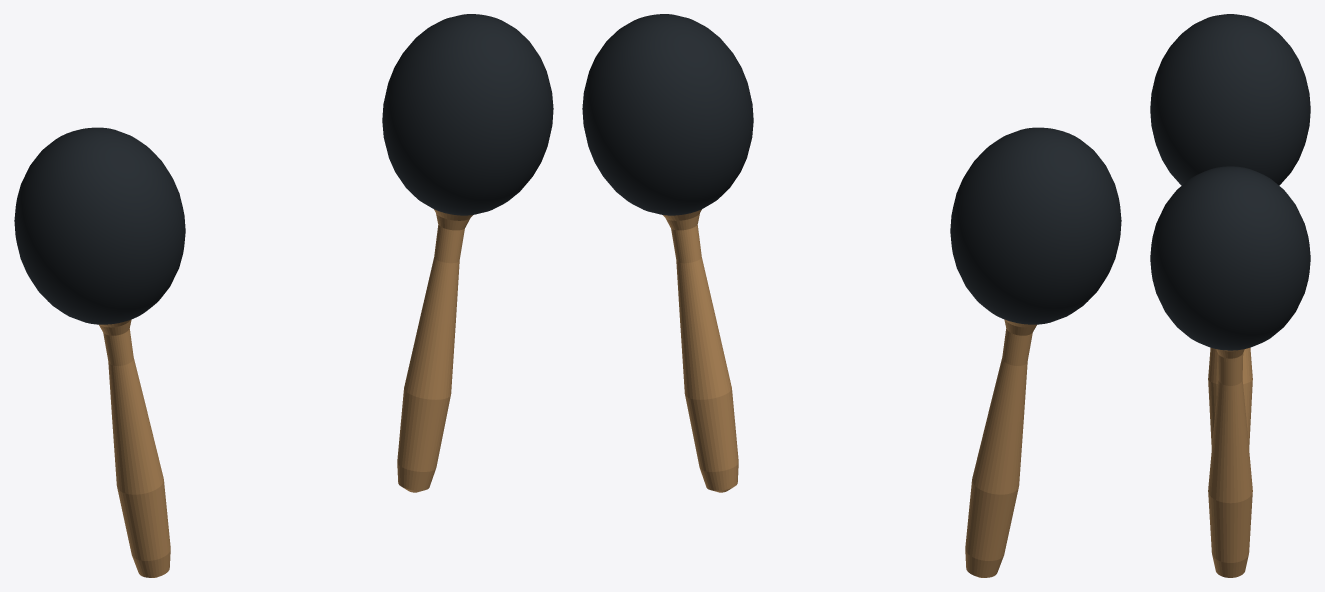
The model's file is A-NEW-20261026-MARACAS-PAIR-001_LOD1_R1.fbx.
3 renders of one model, left to right at view 1: azimuth 30°, elevation 25°; view 2: azimuth 150°, elevation 25°; view 3: azimuth 270°, elevation 25°, orthographic. The views are drawn at different scales.
Visible parts, largest first — view 1: right closed oval head, left closed oval head, right shaped wooden handle, left shaped wooden handle; view 2: right closed oval head, left closed oval head, right shaped wooden handle, left shaped wooden handle; view 3: right closed oval head, left closed oval head, right shaped wooden handle, left shaped wooden handle.
Boxes of the visible parts, bbox=[...] form: right closed oval head: bbox=[382, 14, 553, 215]; left closed oval head: bbox=[14, 127, 185, 324]; right shaped wooden handle: bbox=[397, 225, 464, 492]; left shaped wooden handle: bbox=[103, 328, 170, 577]; right closed oval head: bbox=[582, 14, 753, 215]; left closed oval head: bbox=[950, 127, 1121, 324]; right shaped wooden handle: bbox=[671, 225, 738, 492]; left shaped wooden handle: bbox=[965, 328, 1032, 577]; right closed oval head: bbox=[1150, 166, 1310, 350]; left closed oval head: bbox=[1150, 14, 1310, 185]; right shaped wooden handle: bbox=[1208, 353, 1252, 577]; left shaped wooden handle: bbox=[1208, 348, 1252, 448].
Bounding box in the file's own units: 30.06 × 26.57 × 8.6.
